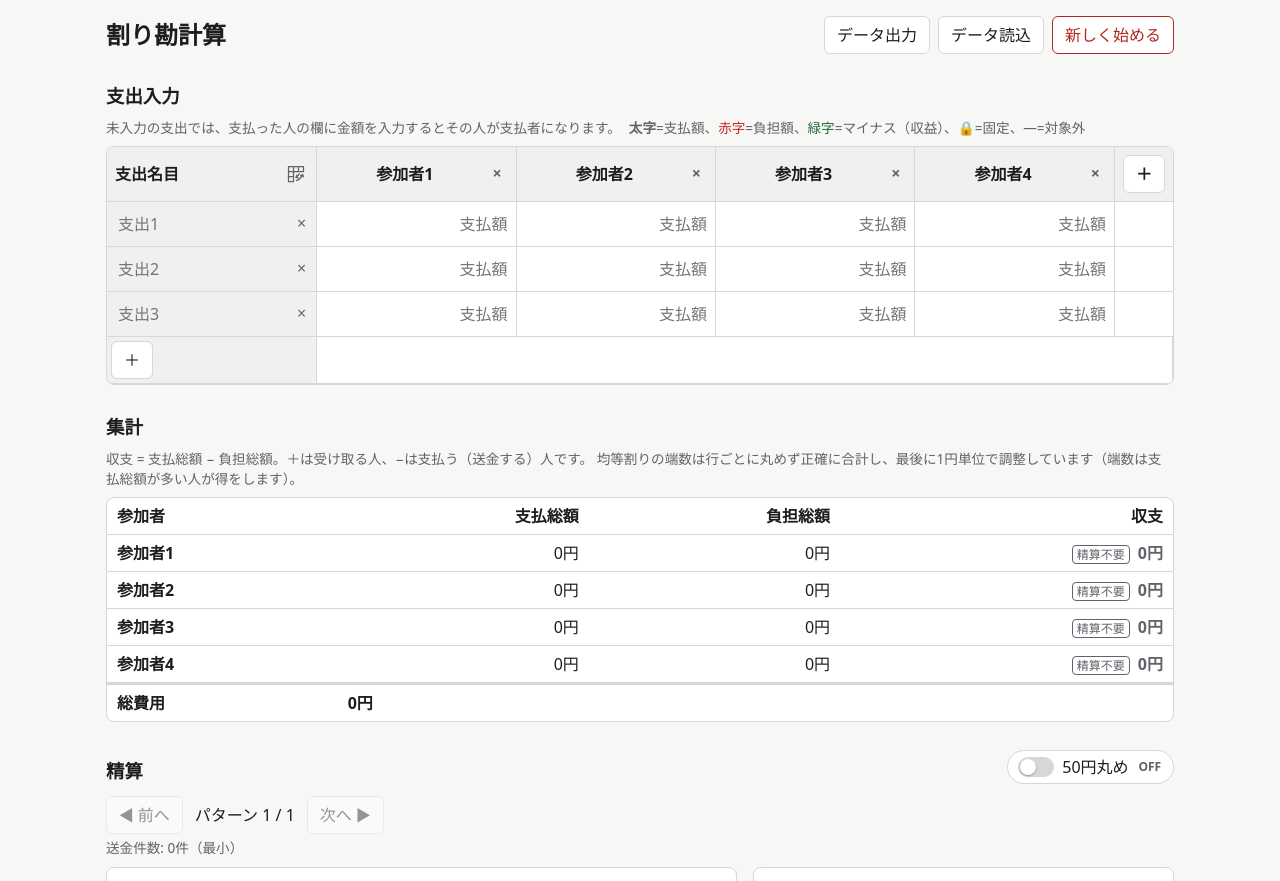
Test: App › マイナスの支払額（収益）を入力でき、色を変えて表示する
The width and height of the screenshot is (1280, 881).
In the 1st field with placeholder "支払額": (416, 224) [317,202,516,246], type "-4000"
Then press Enter
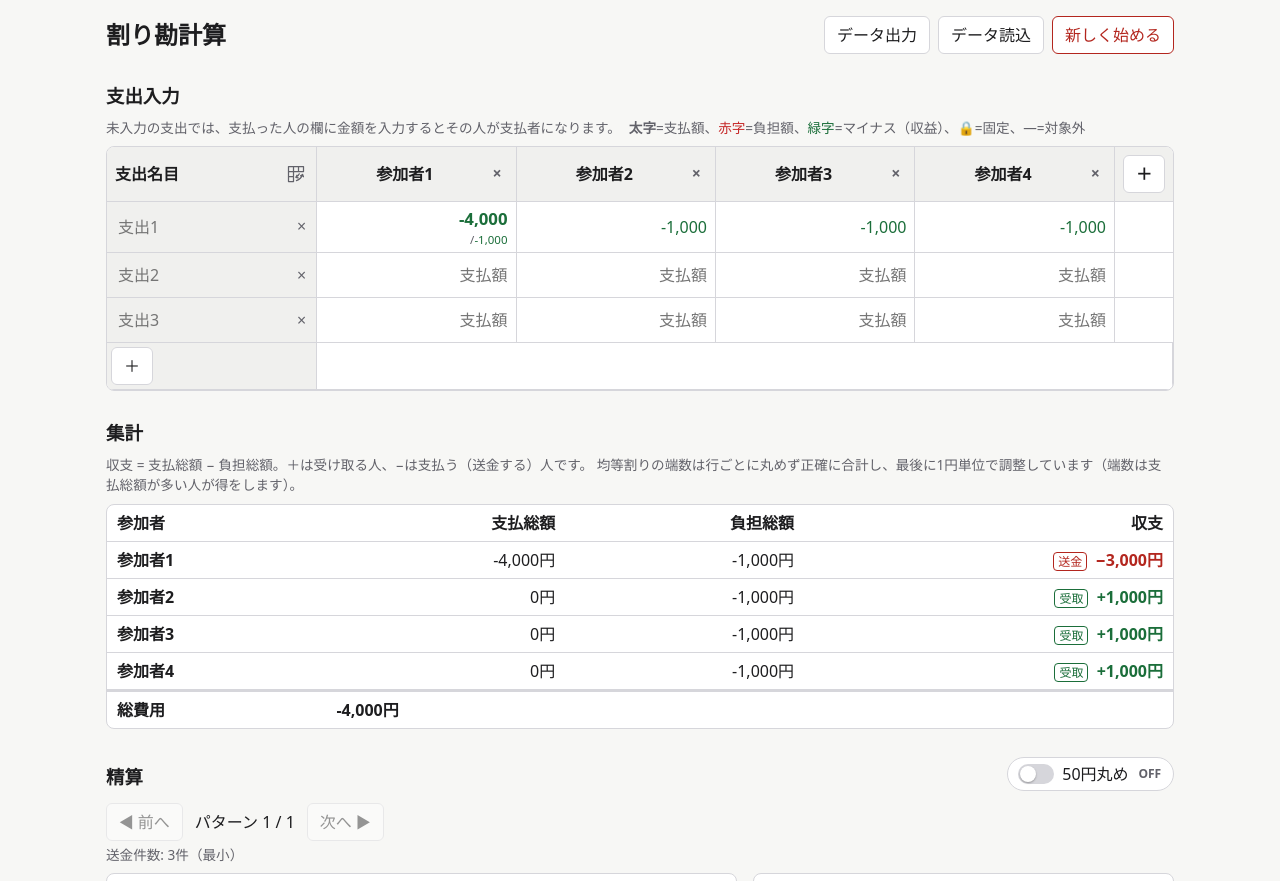
Now the text "−3,000円" is shown, box [1096,549,1163,571]
Click the button named "支出1 の 参加者1：支払 -4,000円": (416, 227) [317,202,516,252]
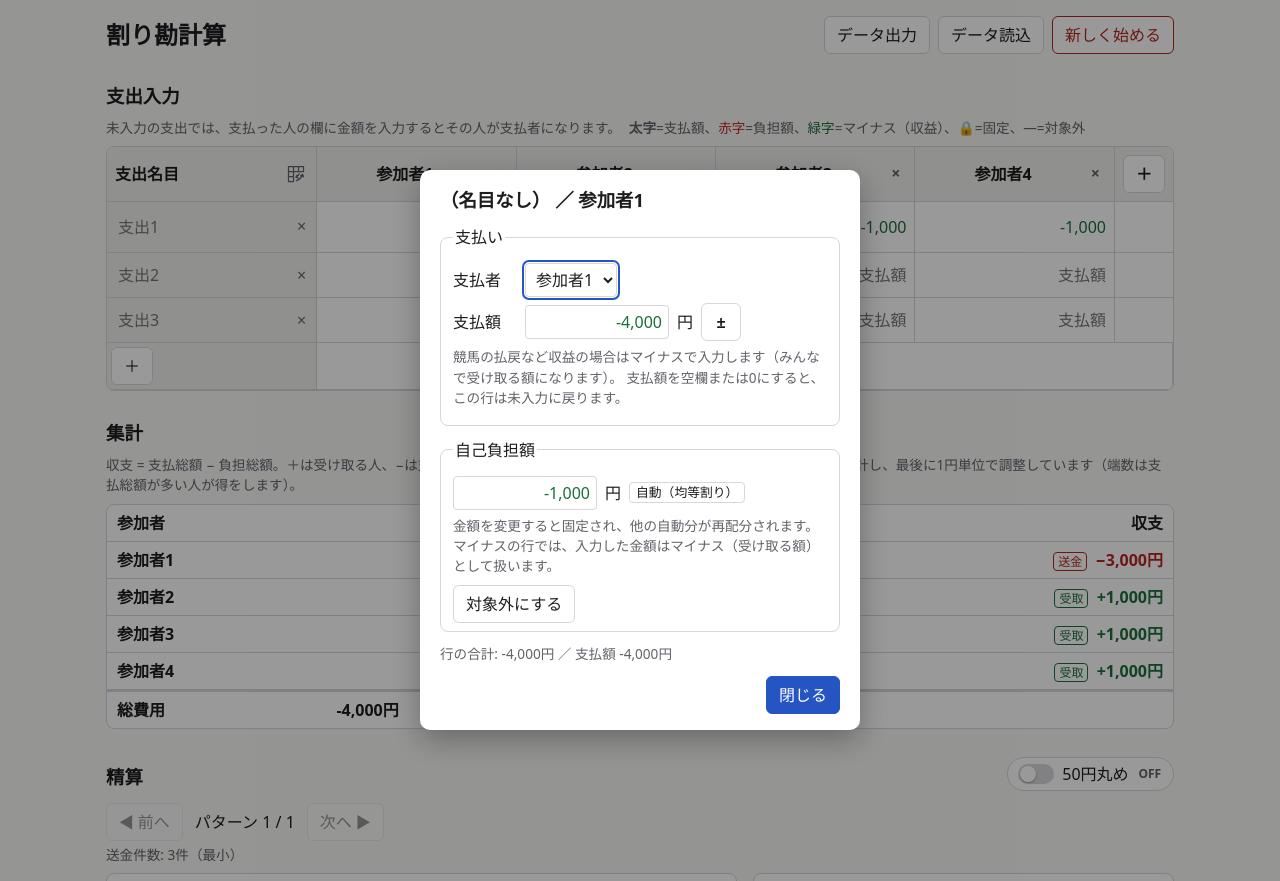
Click the button named "支払額のプラス・マイナスを切り替え": (721, 322) [701,303,741,341]
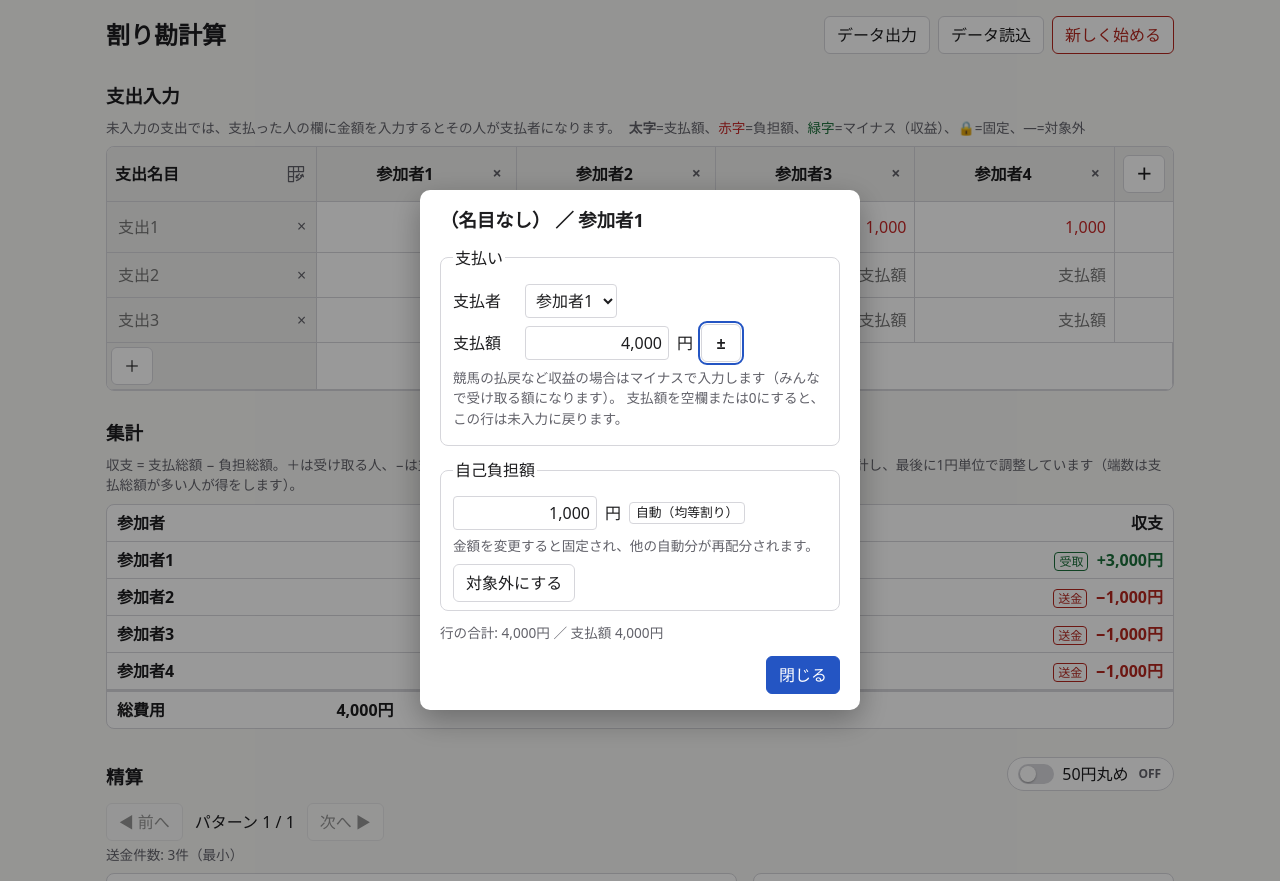
Now the field named "支払額" holds "4,000", box [525,326,669,360]
